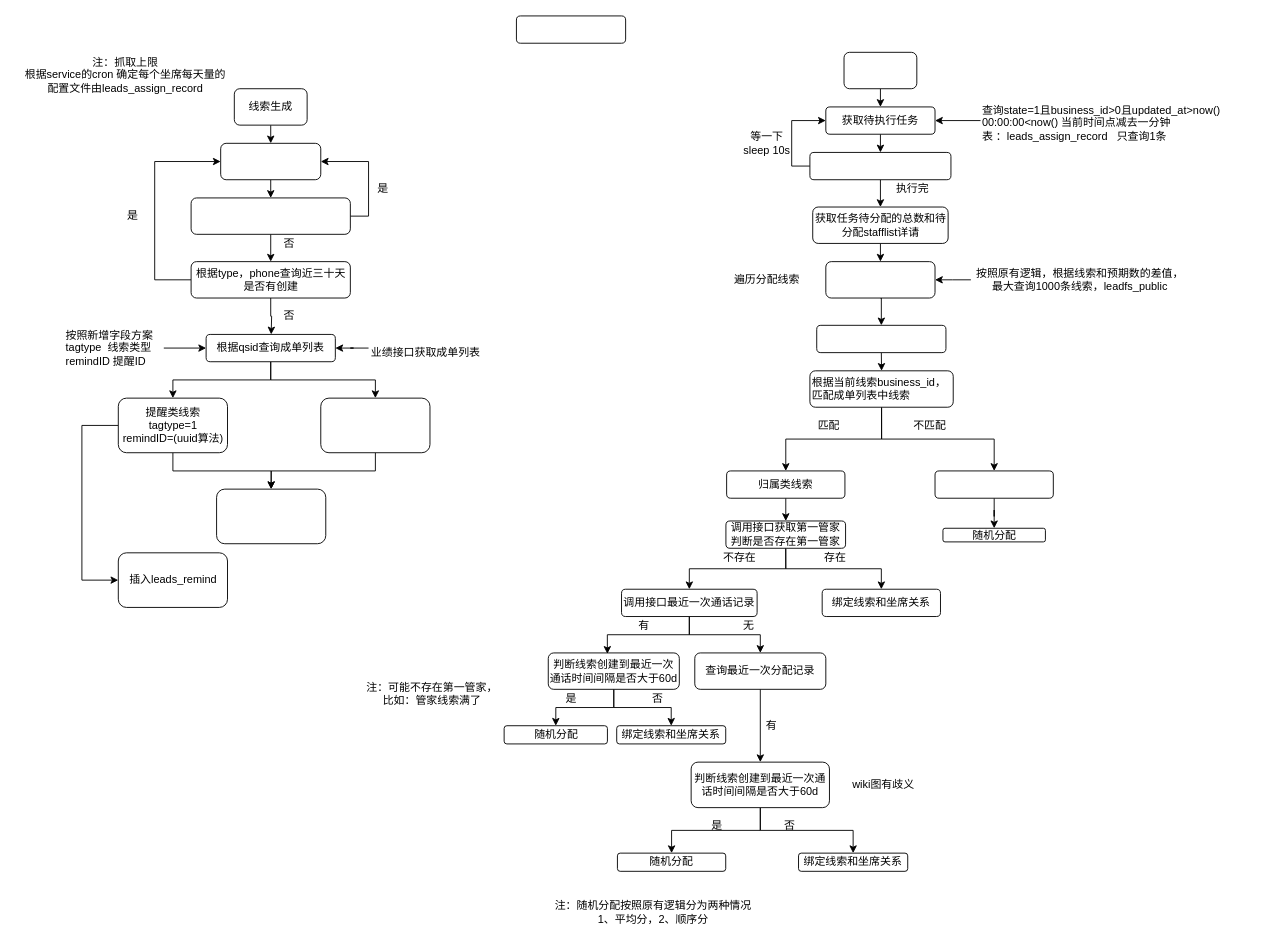
This 1269x942 diagram has some shape labels left out. The shapes that lost their labels are listed below. From the top down, each one's box as (x1, y1, x2, y2) in pixels, then its label:
(516, 15, 626, 43): 需求
(843, 51, 917, 89): 线索分配
(220, 142, 321, 180): 实时/非实时线索
(809, 152, 951, 180): 判断上一条任务是否执行完
(190, 197, 350, 234): 根据tagid，phone，business_id查询近三十天是否有创建
(825, 261, 935, 298): 获取分配中的线索
(816, 324, 946, 353): 查询leads_public中 tagtype=2（提醒类线索）
(320, 397, 430, 453): 普通类线索 tagtype=2 remindID=0
(934, 470, 1053, 498): 非归属类线索
(216, 488, 326, 544): 插入leads_piublic
